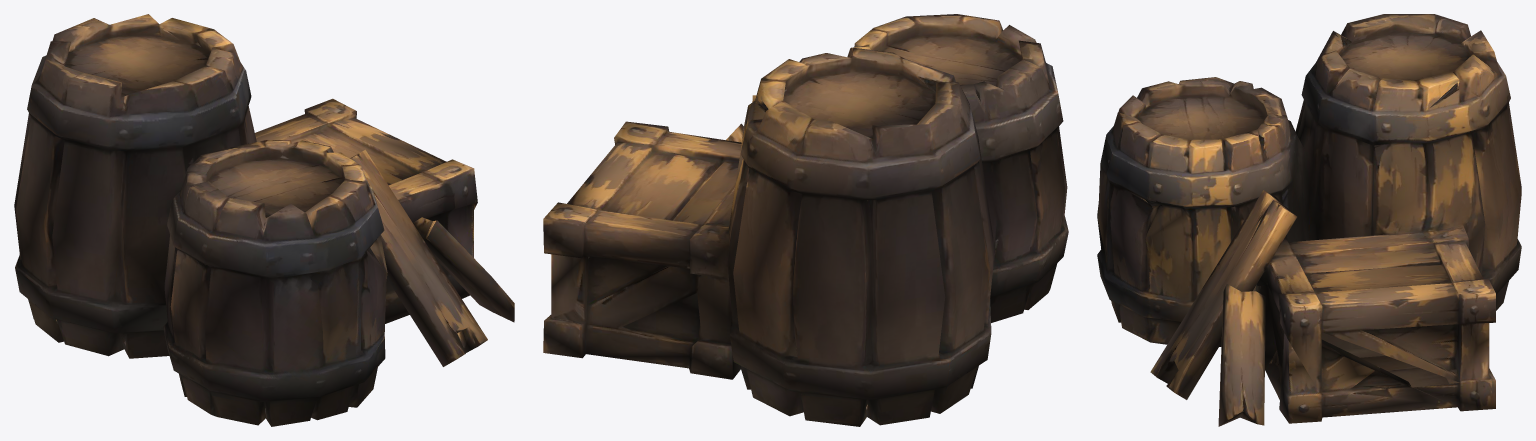
The model's file is tripo_convert_0d801cec-6269-4f4b-b523-7ecd4a6ad9c7.fbx.
The picture shows the model from 3 angles, left to right: view 1: azimuth 30°, elevation 25°; view 2: azimuth 150°, elevation 25°; view 3: azimuth 270°, elevation 25°; orthographic projection. The views are drawn at different scales.
Parts seen in each view (by area): view 1: tripo_node_0d801cec; view 2: tripo_node_0d801cec; view 3: tripo_node_0d801cec.
Boxes of the visible parts, x1,y1,x2,y2 form: tripo_node_0d801cec: [14, 14, 514, 426]; tripo_node_0d801cec: [543, 14, 1068, 426]; tripo_node_0d801cec: [1097, 14, 1521, 426].
Bounding box in the file's own units: 0.9785 × 0.6377 × 0.9785.
1 material, 1 textured.
